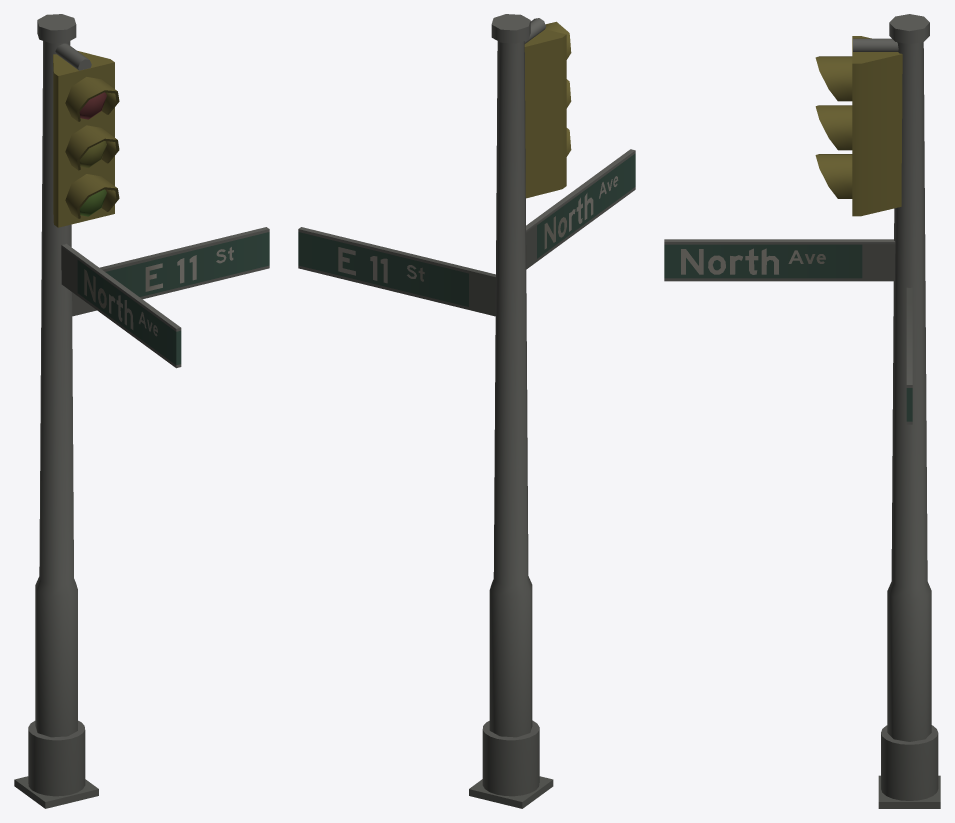
Rendered from ct_trafficlight.glb.
3 renders of one model, left to right at view 1: azimuth 30°, elevation 25°; view 2: azimuth 150°, elevation 25°; view 3: azimuth 270°, elevation 25°, orthographic.
Visible parts, largest first — view 1: ct_trafficlight; view 2: ct_trafficlight; view 3: ct_trafficlight.
Boxes of the visible parts, x1,y1,x2,y2 form: ct_trafficlight: [14, 14, 269, 808]; ct_trafficlight: [298, 14, 635, 808]; ct_trafficlight: [664, 14, 940, 808].
Size of the model in its own units: 1.51 by 4.66 by 1.51.
